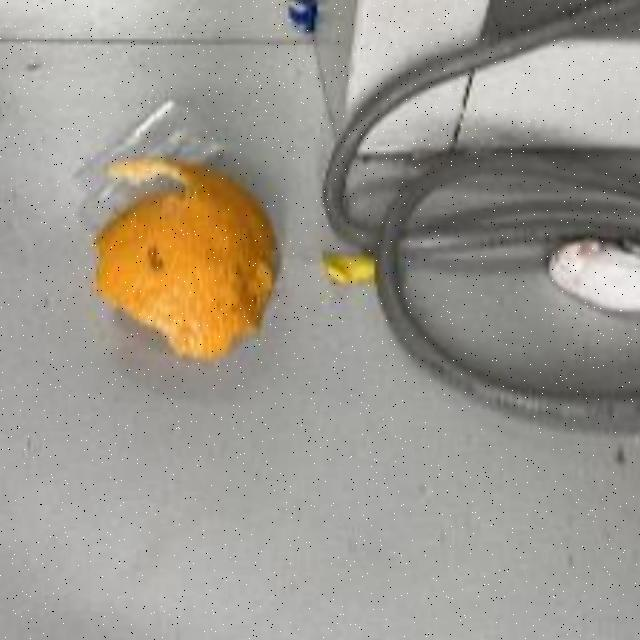orange-peel: (90, 154, 280, 364)
